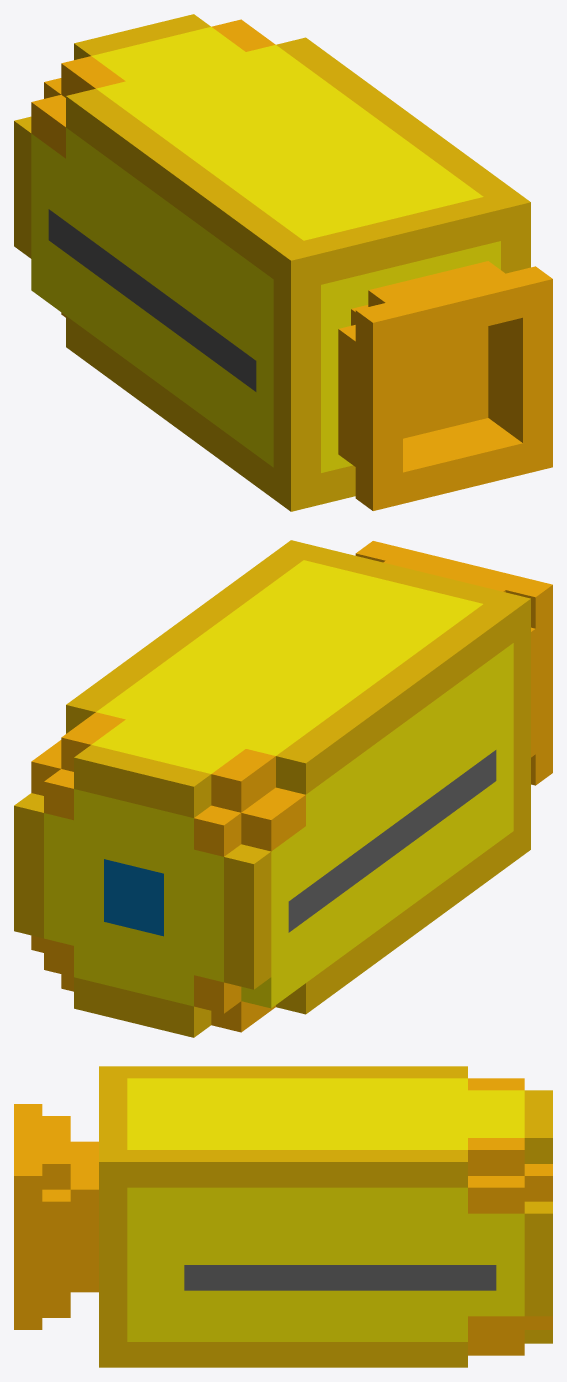
Rendered from DroneBody.obj.
3 views of the same model, one above another, from view 1: azimuth 30°, elevation 25°; view 2: azimuth 150°, elevation 25°; view 3: azimuth 270°, elevation 25° (orthographic). The views are drawn at different scales.
Parts seen in each view (by area): view 1: DroneBody; view 2: DroneBody; view 3: DroneBody.
Part boxes in pixels (x1,y1,x2,y2): DroneBody: (14, 14, 552, 511); DroneBody: (14, 540, 552, 1037); DroneBody: (14, 1066, 552, 1367).
Size of the model in its own units: 8 by 8 by 19.
Materials: 1 (1 with a texture image).
